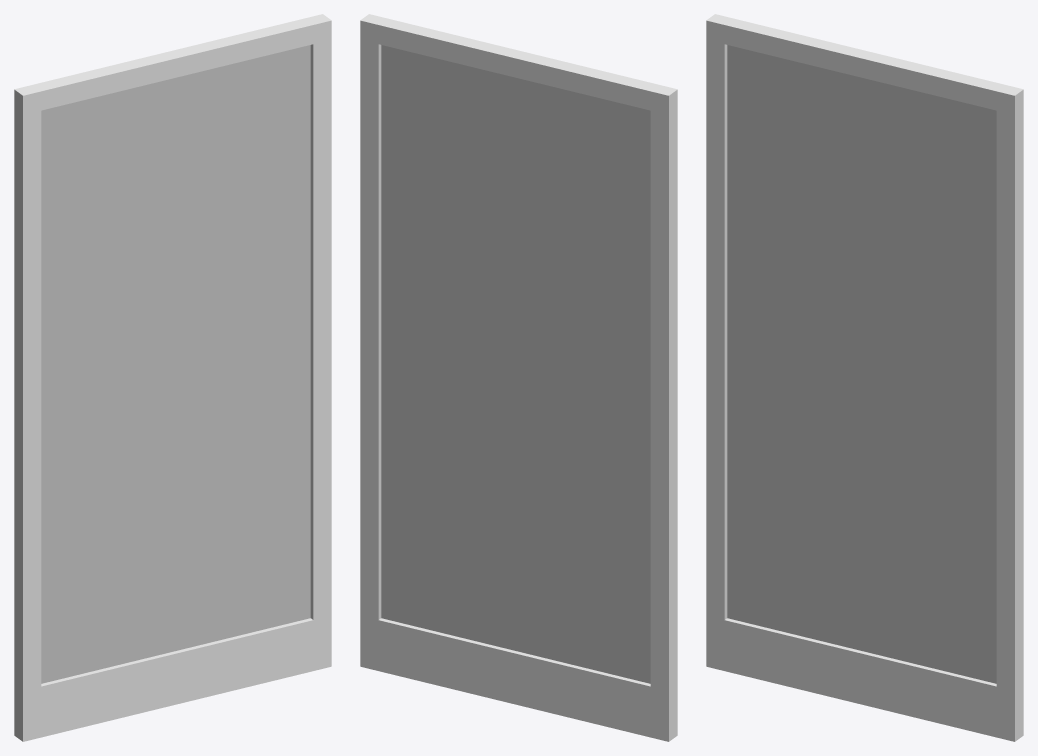
The model's file is wall_017.fbx.
The picture shows the model from 3 angles, left to right: view 1: azimuth 30°, elevation 25°; view 2: azimuth 150°, elevation 25°; view 3: azimuth 330°, elevation 25°; orthographic projection.
Visible parts, largest first — view 1: wall_017; view 2: wall_017; view 3: wall_017.
Part boxes in pixels (x1,y1,x2,y2): wall_017: [14, 14, 331, 741]; wall_017: [360, 14, 677, 741]; wall_017: [706, 14, 1023, 741].
Bounding box in the file's own units: 200 × 10 × 400.
